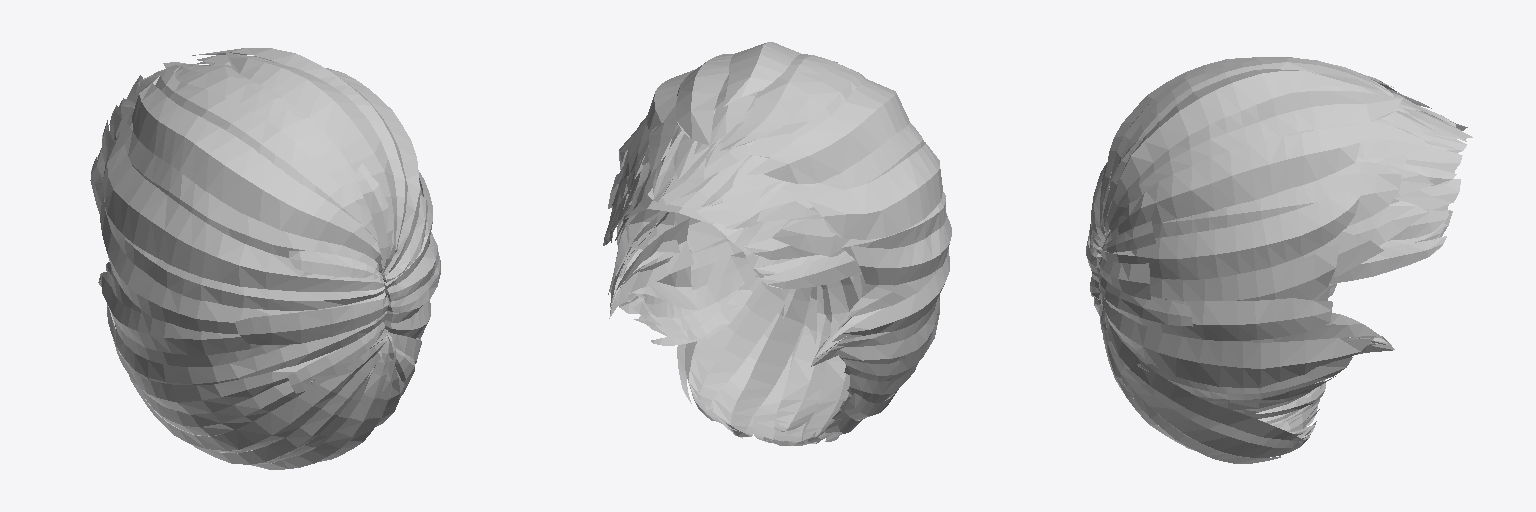
The model's file is Hair.obj.
3 renders of one model, left to right at view 1: azimuth 30°, elevation 25°; view 2: azimuth 150°, elevation 25°; view 3: azimuth 270°, elevation 25°, orthographic.
Parts seen in each view (by area): view 1: Hair; view 2: Hair; view 3: Hair.
Boxes of the visible parts, <box> form: Hair: <box>90,48,440,469</box>; Hair: <box>603,42,951,445</box>; Hair: <box>1086,57,1472,463</box>.
Size of the model in its own units: 0.1941 by 0.2416 by 0.2228.